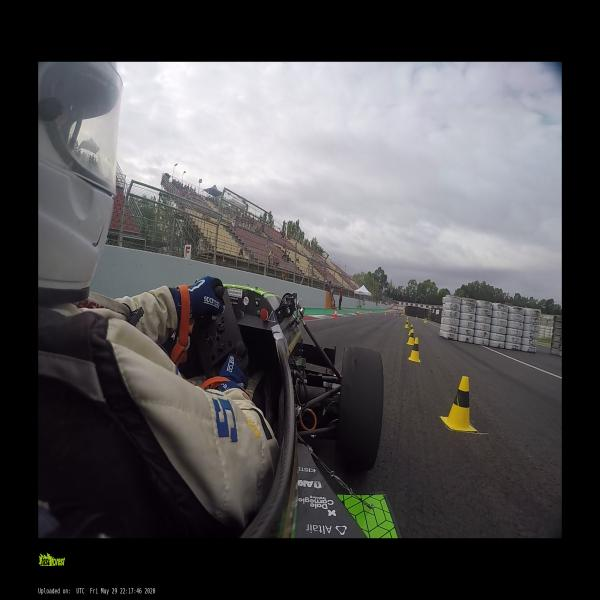orange_cone: (332, 309, 338, 319), (356, 310, 360, 316), (369, 310, 371, 316), (384, 312, 386, 316)
yellow_cone: (440, 376, 478, 432), (406, 338, 421, 363), (407, 329, 415, 346), (408, 324, 414, 335), (404, 320, 409, 328), (424, 318, 426, 323)
